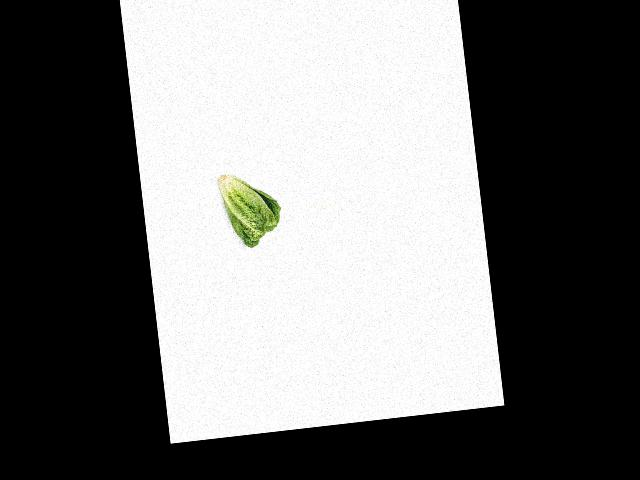lettuce: (215, 167, 284, 250)
